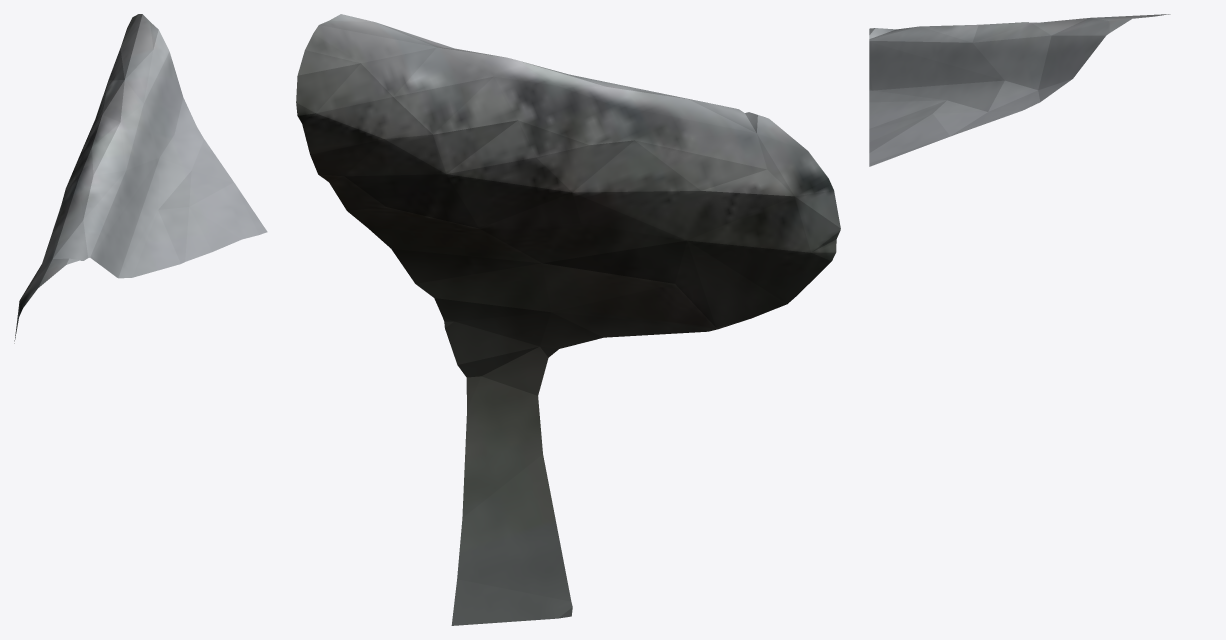
3 views of the same model, side by side, from view 1: azimuth 30°, elevation 25°; view 2: azimuth 150°, elevation 25°; view 3: azimuth 270°, elevation 25° (orthographic). The views are drawn at different scales.
Size of the model in its own units: 0.2334 by 0.4455 by 0.2259.
Materials: 1 (1 with a texture image).
